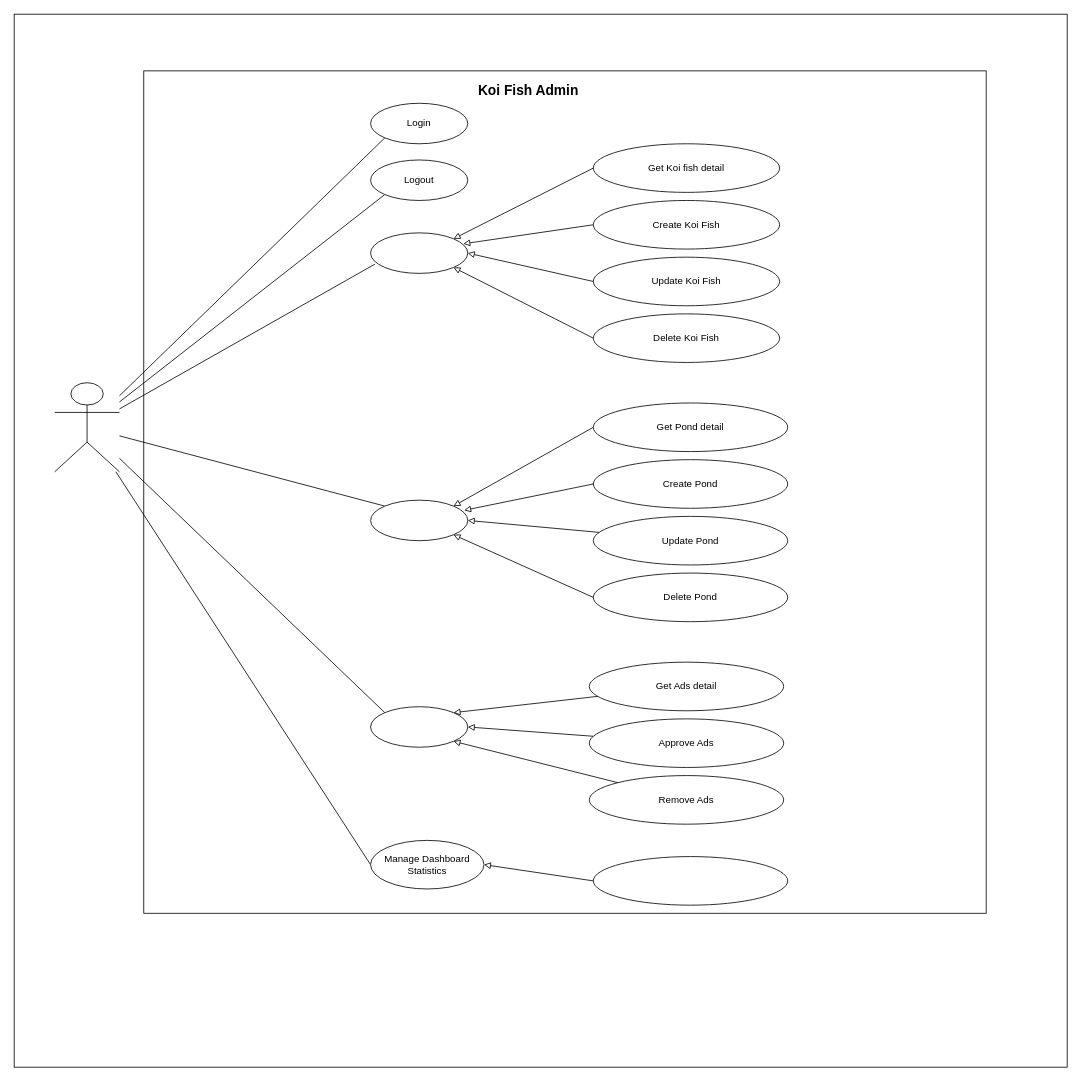
This 1081x1081 diagram has some shape labels left out. Here are the shapes that lost their labels. From the top down, the box of each, then its label:
(370, 232, 468, 273): Manage Koi Fish
(54, 382, 119, 472): Admin
(370, 499, 468, 541): Manage Pond
(370, 706, 468, 747): Manage Ads
(593, 856, 788, 905): Get Dashboard Statistics
